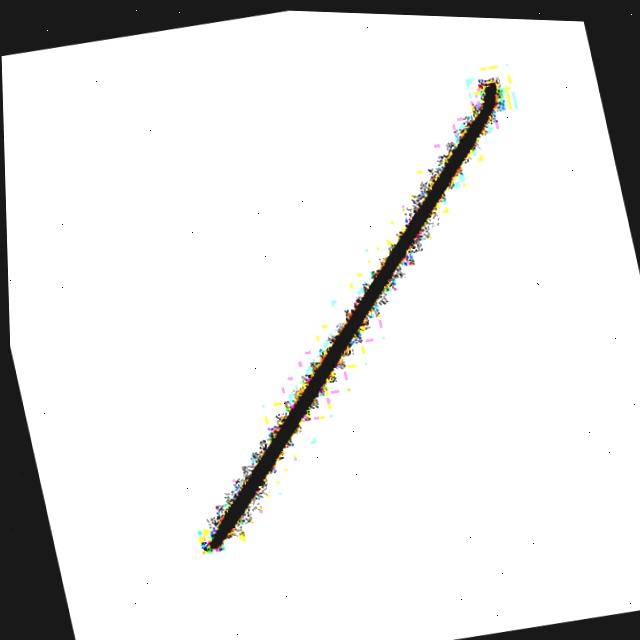crow bar: (193, 76, 504, 549)
